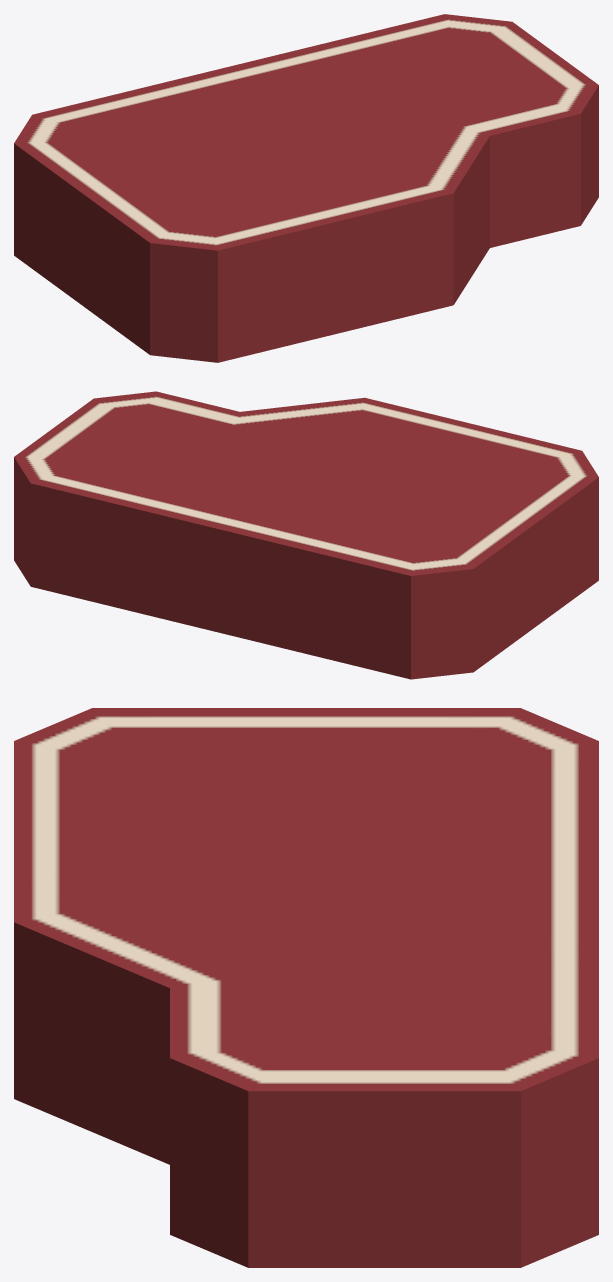
File: Meat.fbx
The picture shows the model from 3 angles, top to bottom: view 1: azimuth 30°, elevation 25°; view 2: azimuth 150°, elevation 25°; view 3: azimuth 270°, elevation 25°; orthographic projection. The views are drawn at different scales.
Visible parts, largest first — view 1: Meat; view 2: Meat; view 3: Meat.
Part boxes in pixels (box(x1,y1,x2,y2)): Meat: box(14, 14, 598, 362); Meat: box(14, 391, 598, 679); Meat: box(14, 708, 598, 1267).
Bounding box in the file's own units: 23.24 × 5 × 15.
2 materials, 2 textured.
